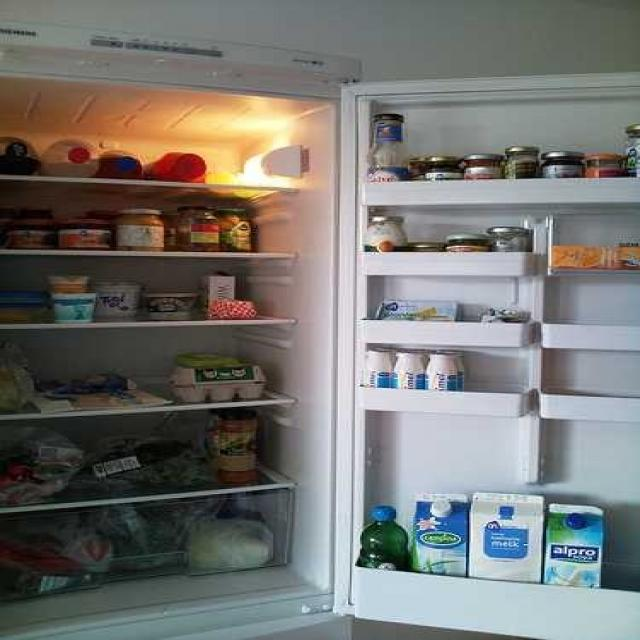refrigerator: (0, 73, 640, 615)
